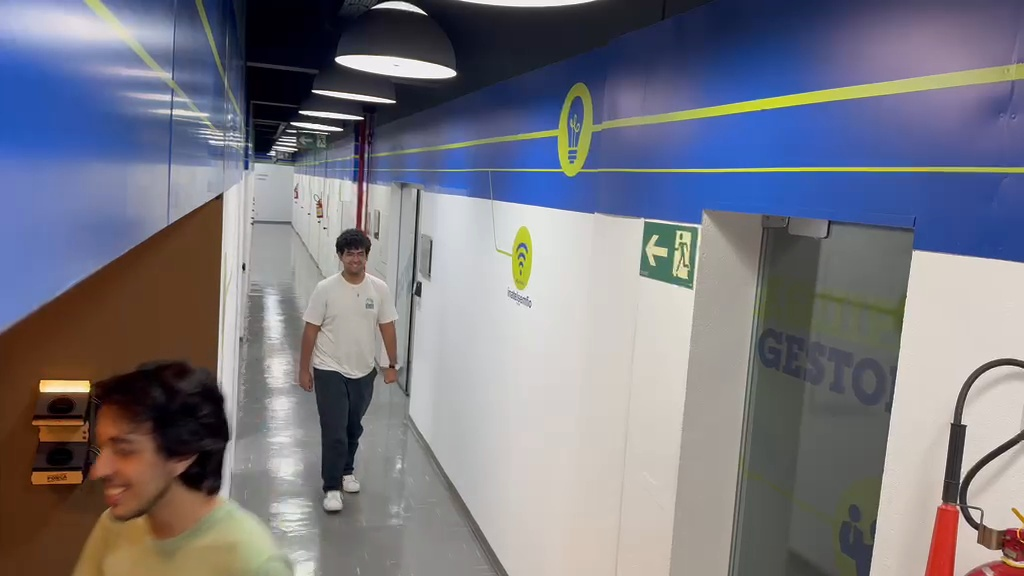person: (69, 361, 296, 571), (297, 229, 399, 514)
